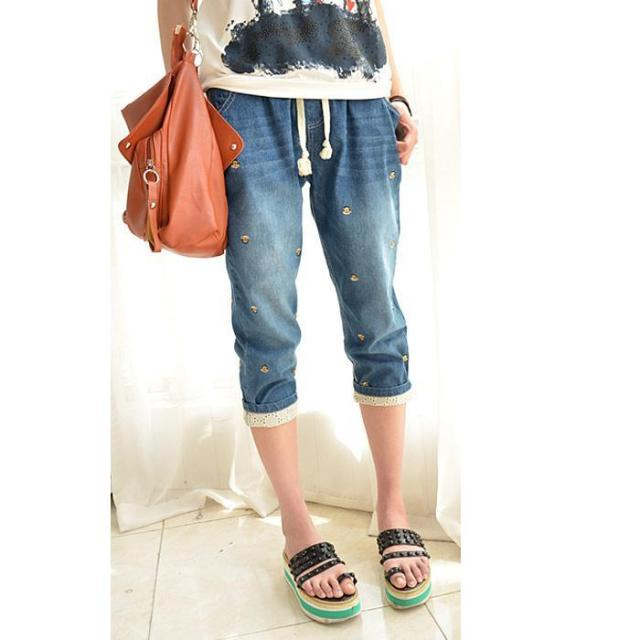trousers: (202, 32, 458, 431)
